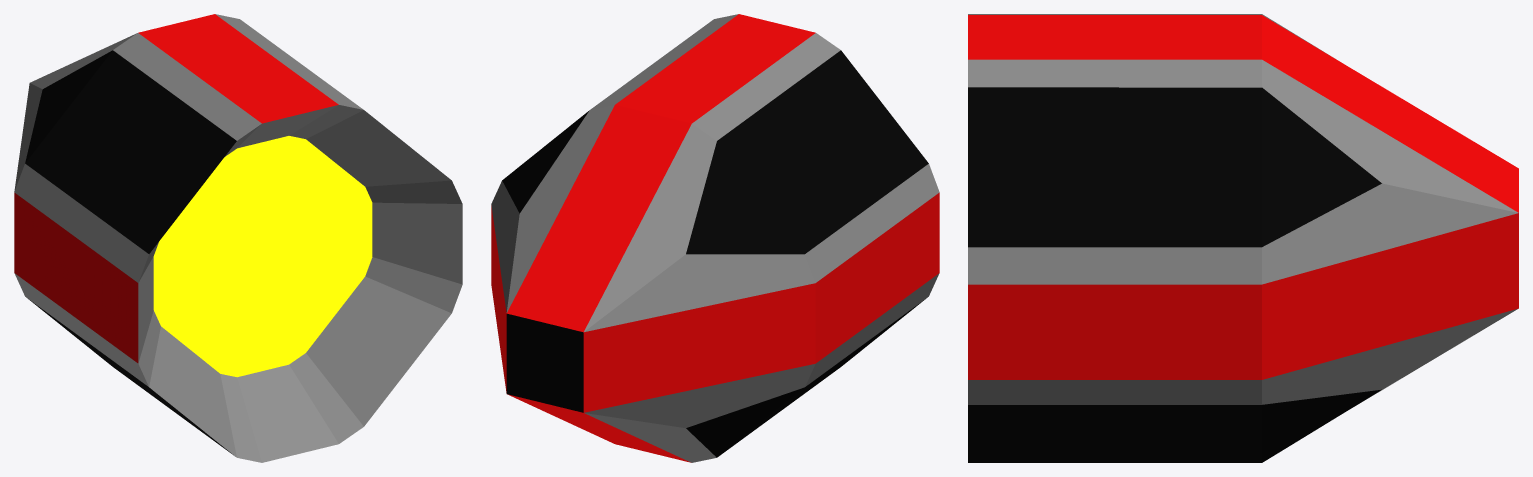
Rendered from Light.fbx.
3 views of the same model, side by side, from view 1: azimuth 30°, elevation 25°; view 2: azimuth 150°, elevation 25°; view 3: azimuth 270°, elevation 25° (orthographic). The views are drawn at different scales.
Visible parts, largest first — view 1: Light; view 2: Light; view 3: Light.
Part boxes in pixels (x1,y1,x2,y2): Light: (14, 14, 462, 462); Light: (491, 14, 939, 462); Light: (968, 14, 1518, 462).
Size of the model in its own units: 1.8 by 1.8 by 2.24.
